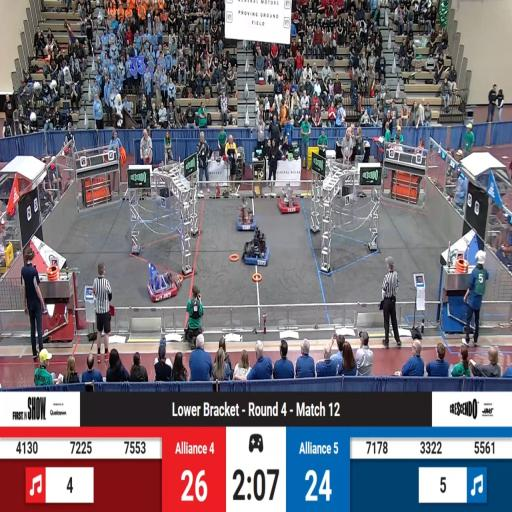robot: (148, 265, 179, 301), (242, 228, 268, 266), (236, 197, 256, 232), (278, 185, 300, 214)
